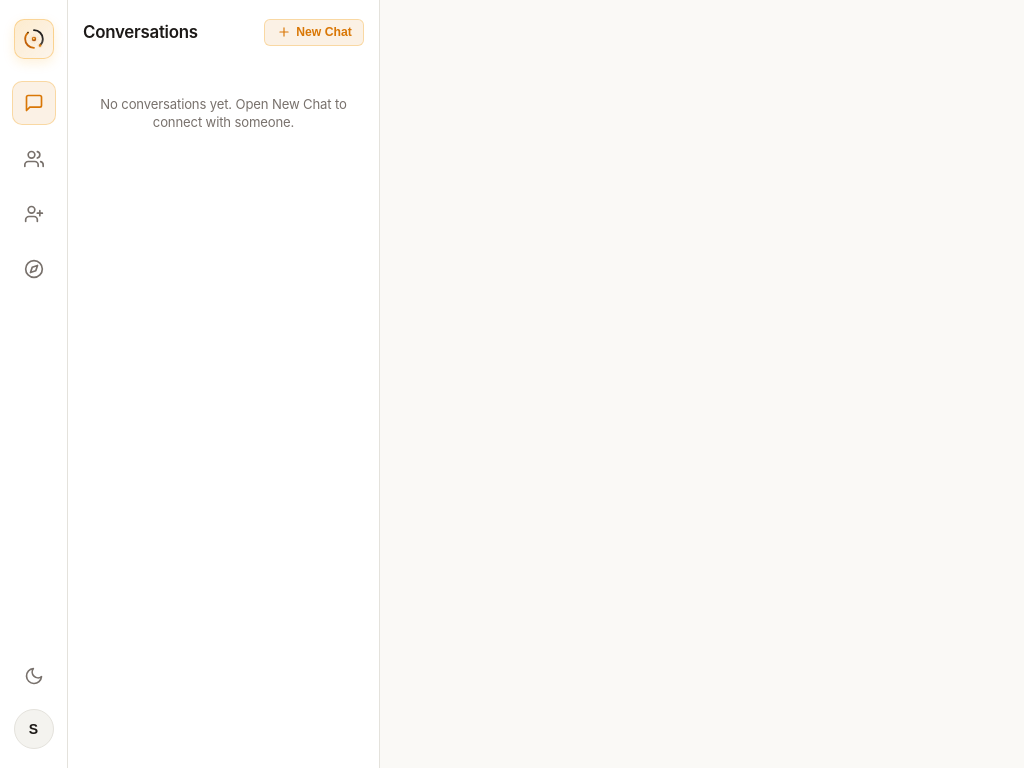
Test: ConversationsComponent › should open new chat modal when clicking New Chat button in header
What coordinates should you click on to do the following:
click the button with test id "new-chat-trigger-btn"
I would click on:
 (314, 32)
Its box is [264,19,364,46].
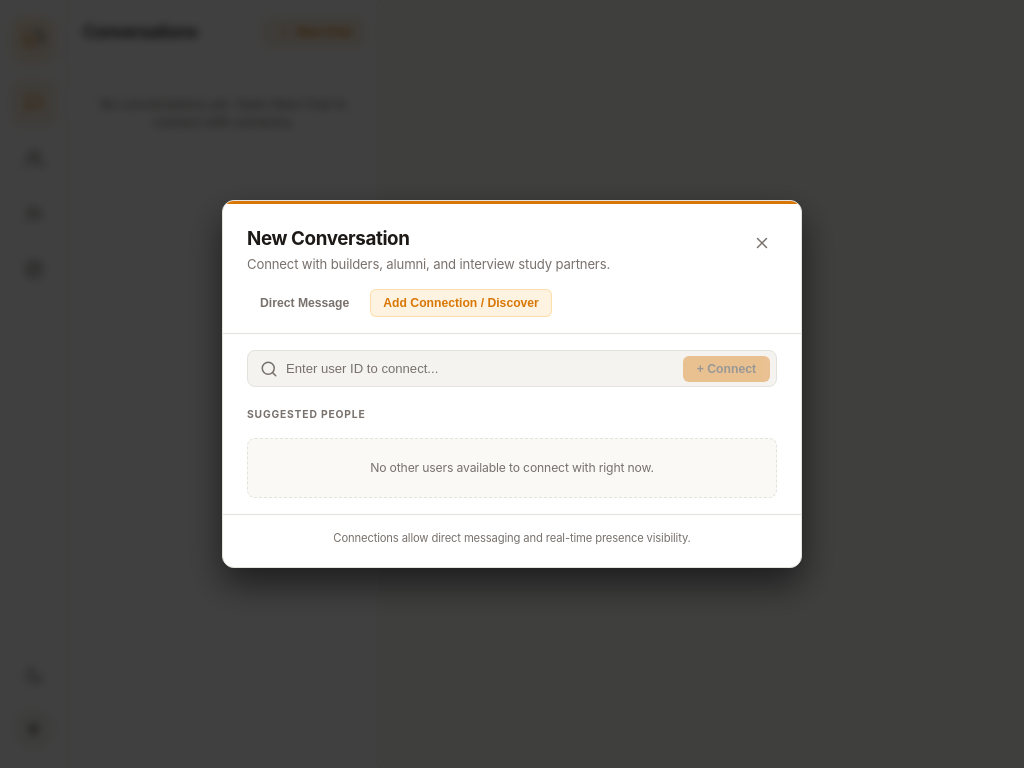
Check: the dialog with test id "new-chat-modal-card" is shown, box [222,200,802,568]
What coordinates should you click on to do the following:
click the button with test id "close-new-chat-modal-btn"
I would click on:
 (762, 243)
Its box is [747,228,777,258].
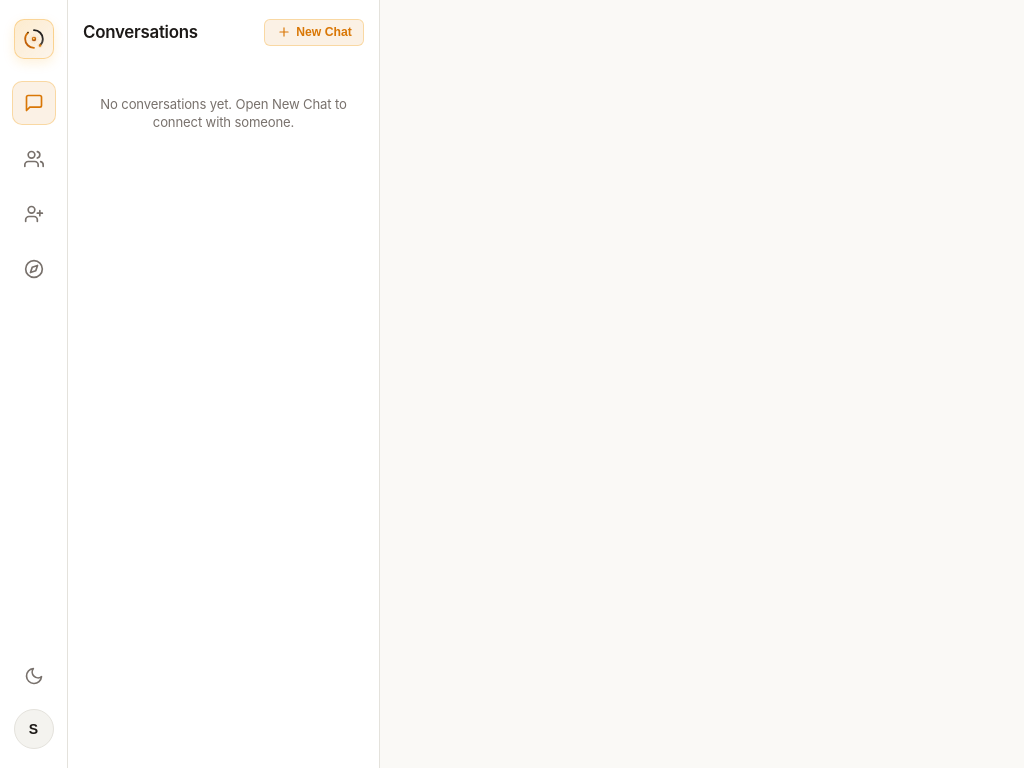
Check: the dialog with test id "new-chat-modal-card" is gone
